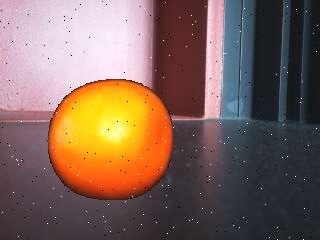Orange: (49, 79, 172, 200)
